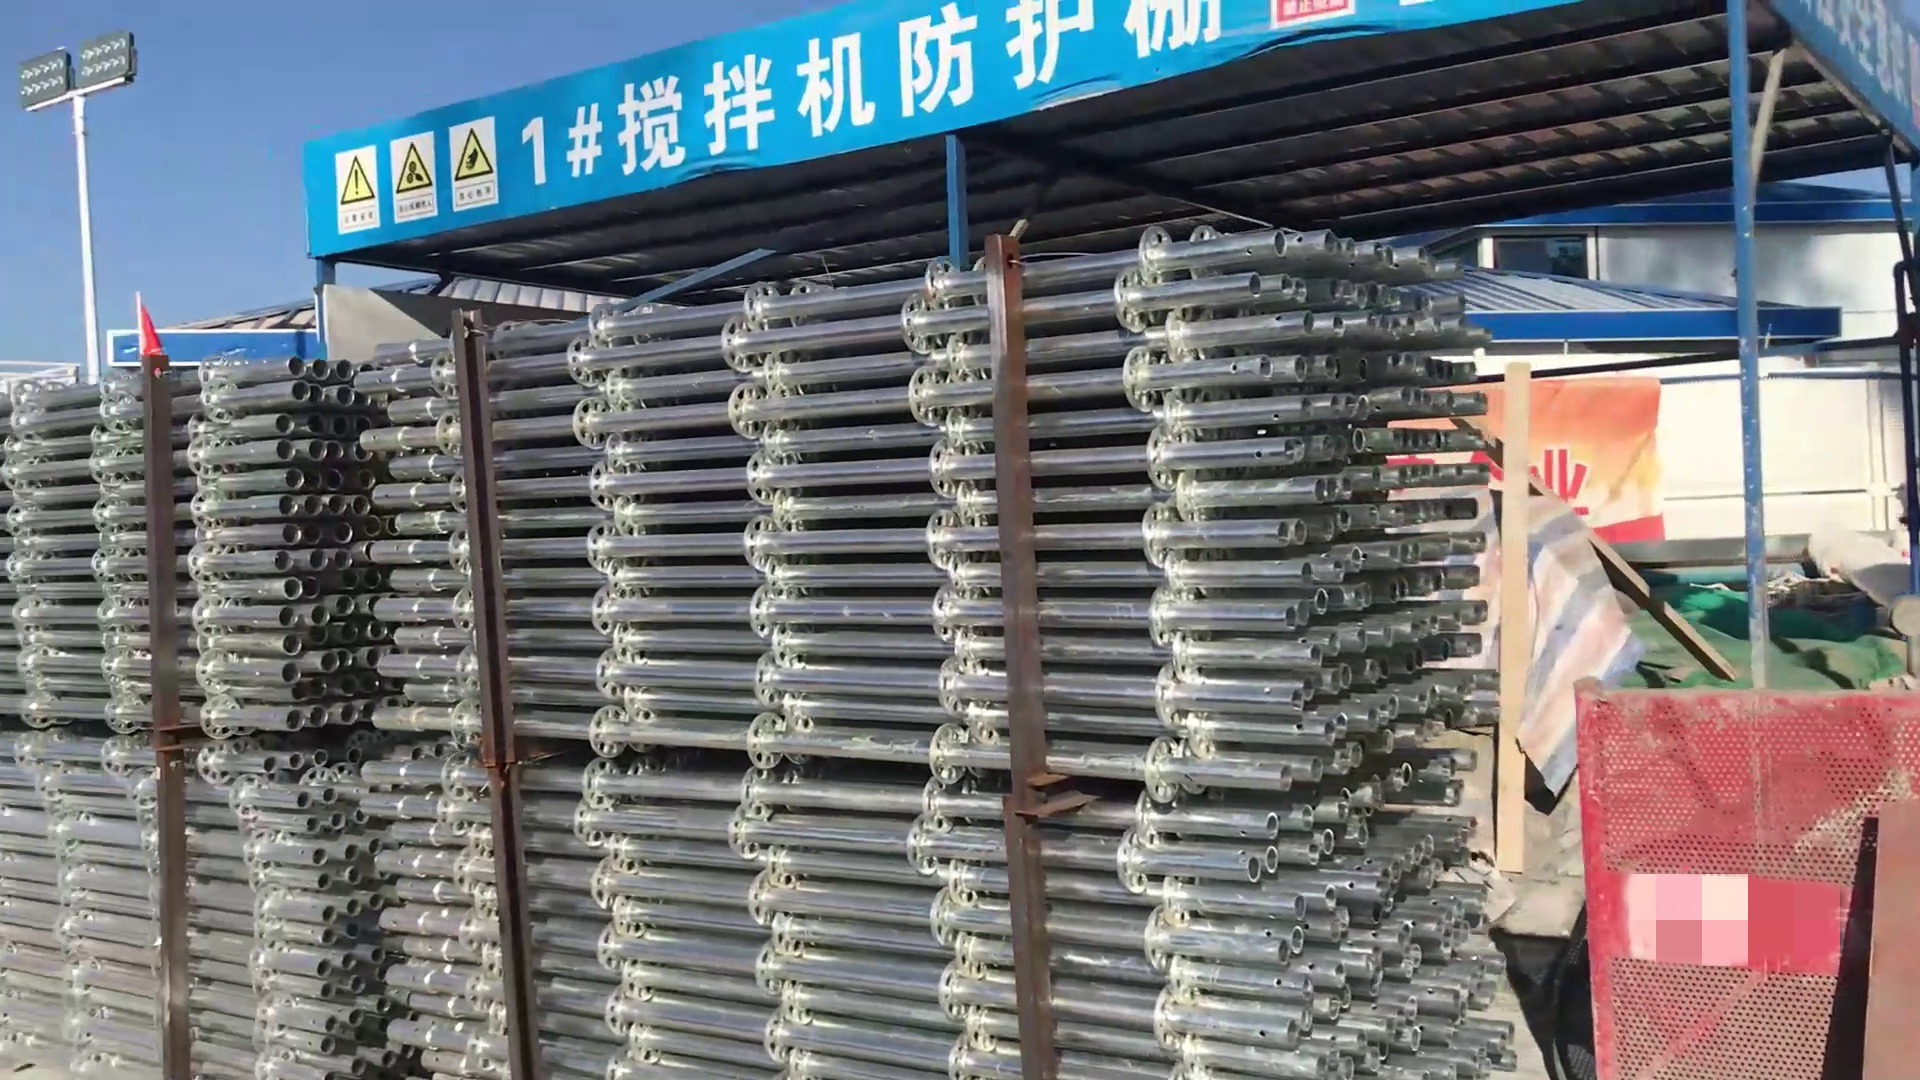fence: (1552, 679, 1920, 1080)
scaffold: (363, 227, 1468, 1080), (1, 351, 363, 1080)
slogan: (324, 119, 505, 231)
